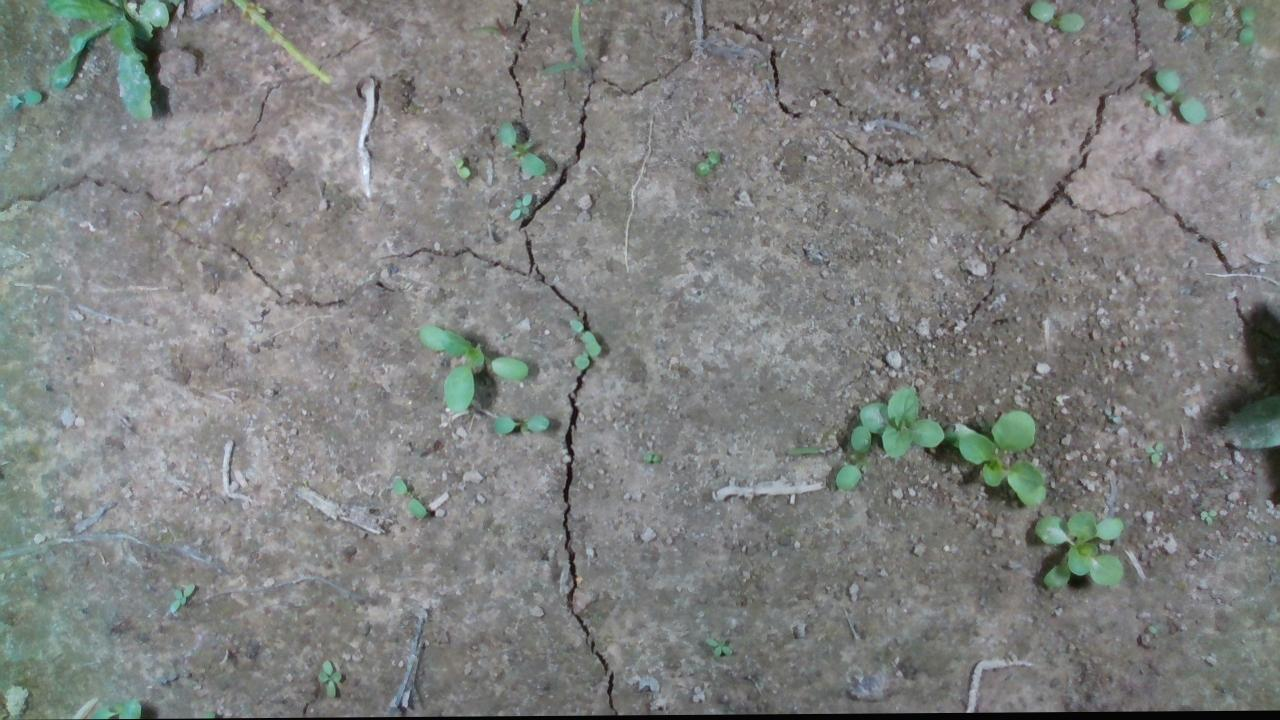weed: (496, 117, 553, 177), (1154, 69, 1208, 128), (489, 408, 572, 444), (383, 473, 431, 530), (1031, 0, 1090, 41), (698, 634, 740, 666), (505, 188, 538, 222), (687, 146, 721, 177), (315, 660, 342, 699), (160, 582, 192, 611), (1141, 437, 1169, 467), (446, 153, 474, 181), (1139, 91, 1168, 117), (1192, 506, 1232, 524), (1239, 7, 1257, 47), (640, 444, 659, 466)
